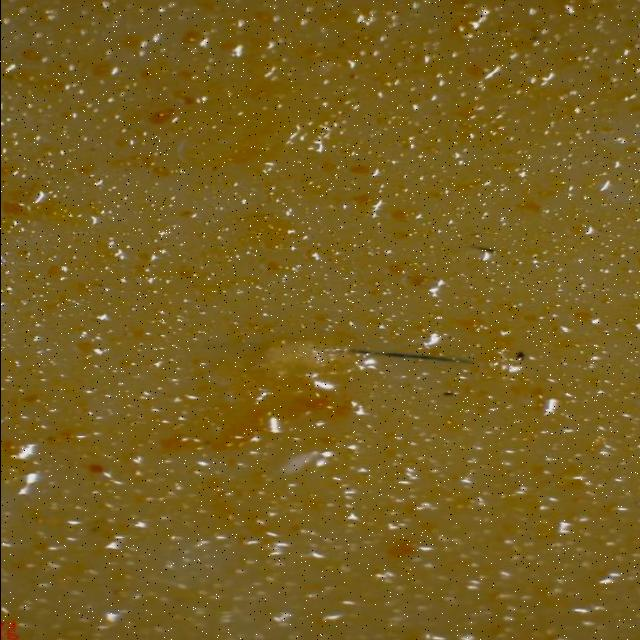Fibre: (350, 340, 524, 374)
